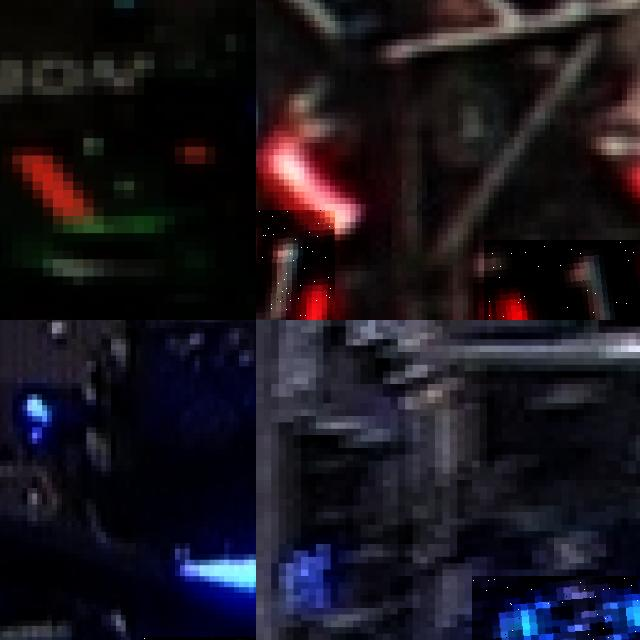B2: (472, 575, 640, 640)
R1: (483, 240, 640, 320), (256, 210, 335, 320)
